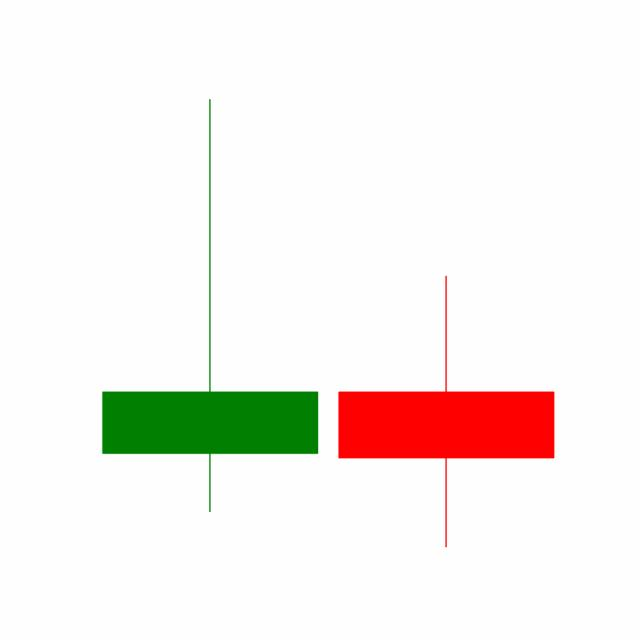Spinning Top: (327, 272, 565, 550)
